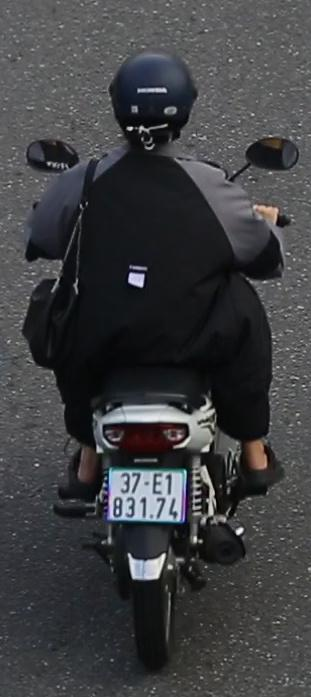LP: (106, 463, 192, 531)
helmet: (110, 45, 200, 160)
